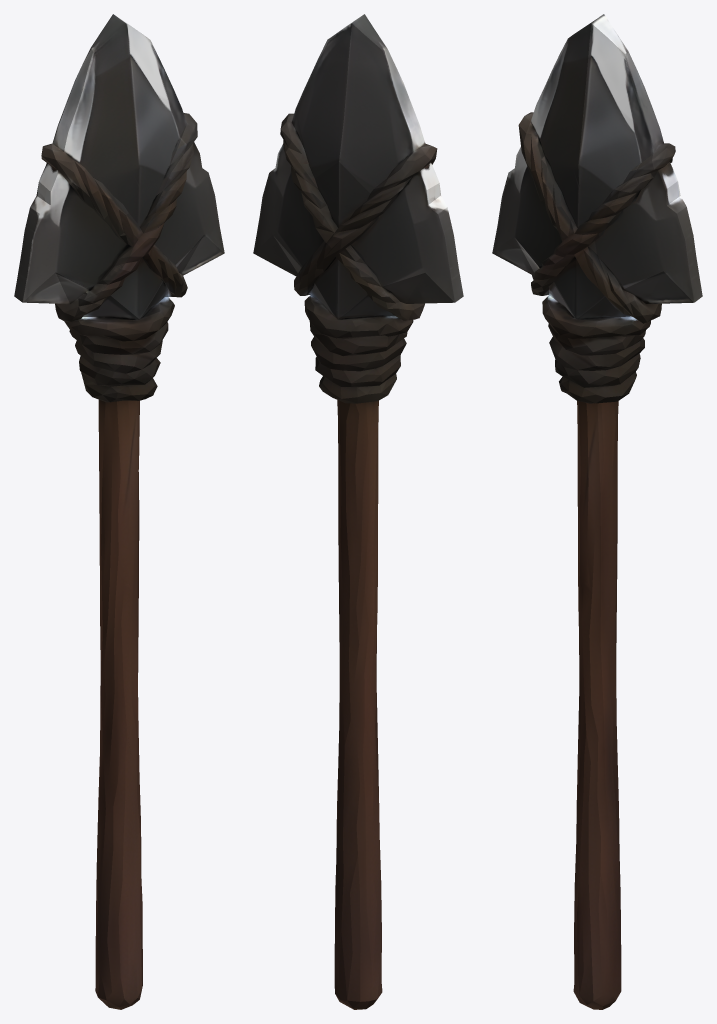
The model's file is base_basic_pbr.fbx.
The picture shows the model from 3 angles, left to right: view 1: azimuth 30°, elevation 25°; view 2: azimuth 150°, elevation 25°; view 3: azimuth 330°, elevation 25°; orthographic projection.
Parts seen in each view (by area): view 1: model; view 2: model; view 3: model.
Boxes of the visible parts, x1,y1,x2,y2 form: model: (14, 14, 224, 1009); model: (253, 14, 463, 1009); model: (492, 14, 702, 1009).
Size of the model in its own units: 37.47 by 175 by 18.05.
Materials: 1 (1 with a texture image).
